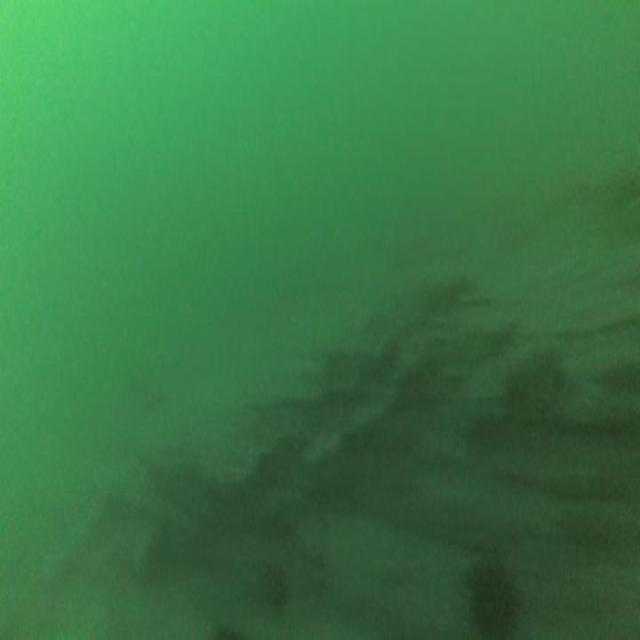echinus: (458, 550, 524, 640)
